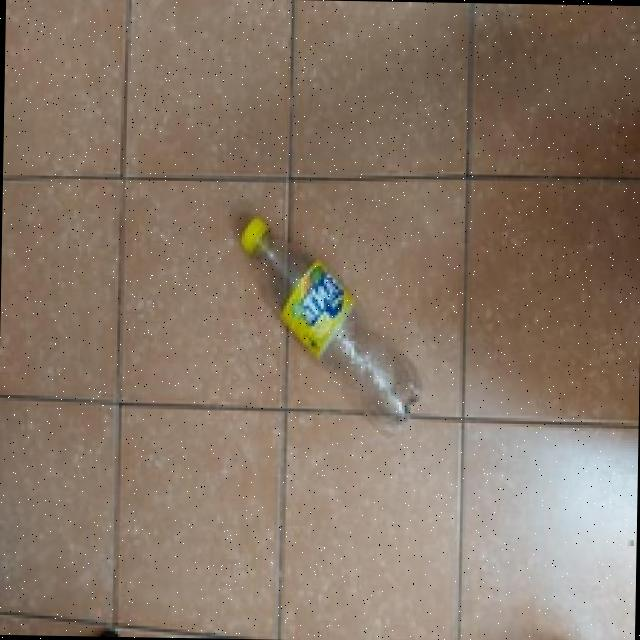bottle: (224, 212, 430, 428)
cap: (234, 215, 274, 252)
label: (264, 264, 376, 371)
